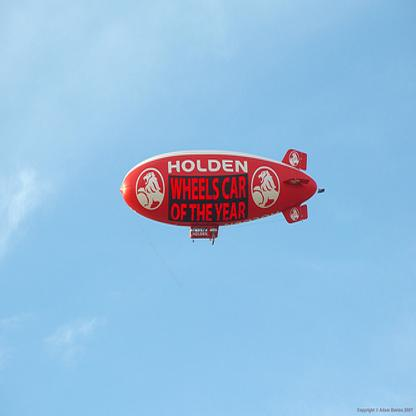Airship: (117, 143, 337, 249)
